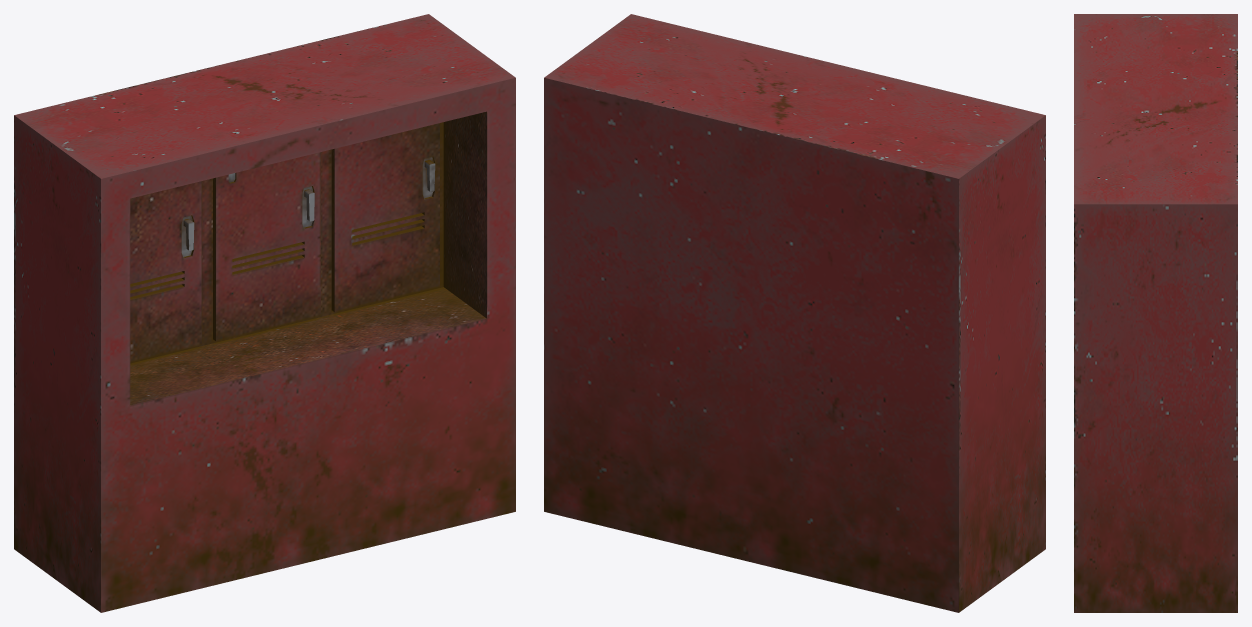
File: electrical box.fbx
3 renders of one model, left to right at view 1: azimuth 30°, elevation 25°; view 2: azimuth 150°, elevation 25°; view 3: azimuth 270°, elevation 25°, orthographic. The views are drawn at different scales.
Visible parts, largest first — view 1: Cube; view 2: Cube; view 3: Cube.
Boxes of the visible parts, x1,y1,x2,y2 form: Cube: (14, 14, 515, 612); Cube: (544, 14, 1045, 612); Cube: (1074, 14, 1237, 612).
Size of the model in its own units: 137 by 137 by 49.97.
Materials: 1 (1 with a texture image).
